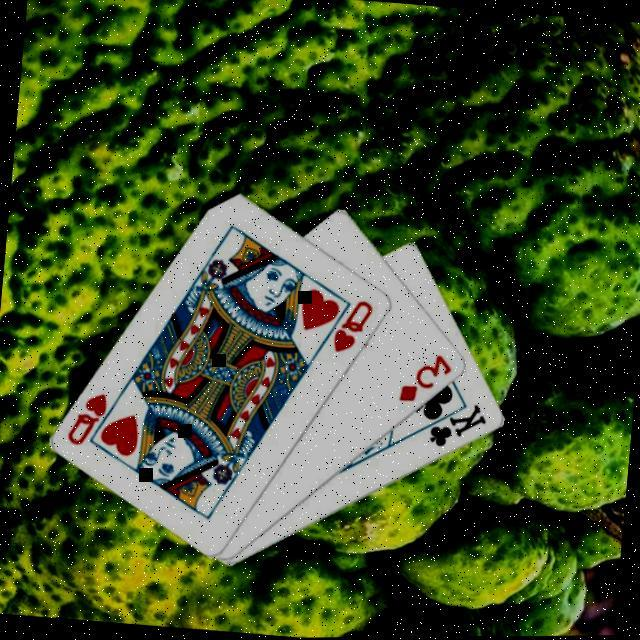3D: (394, 350, 455, 411)
KC: (412, 399, 490, 456)
QH: (63, 388, 124, 453), (328, 296, 376, 361)
